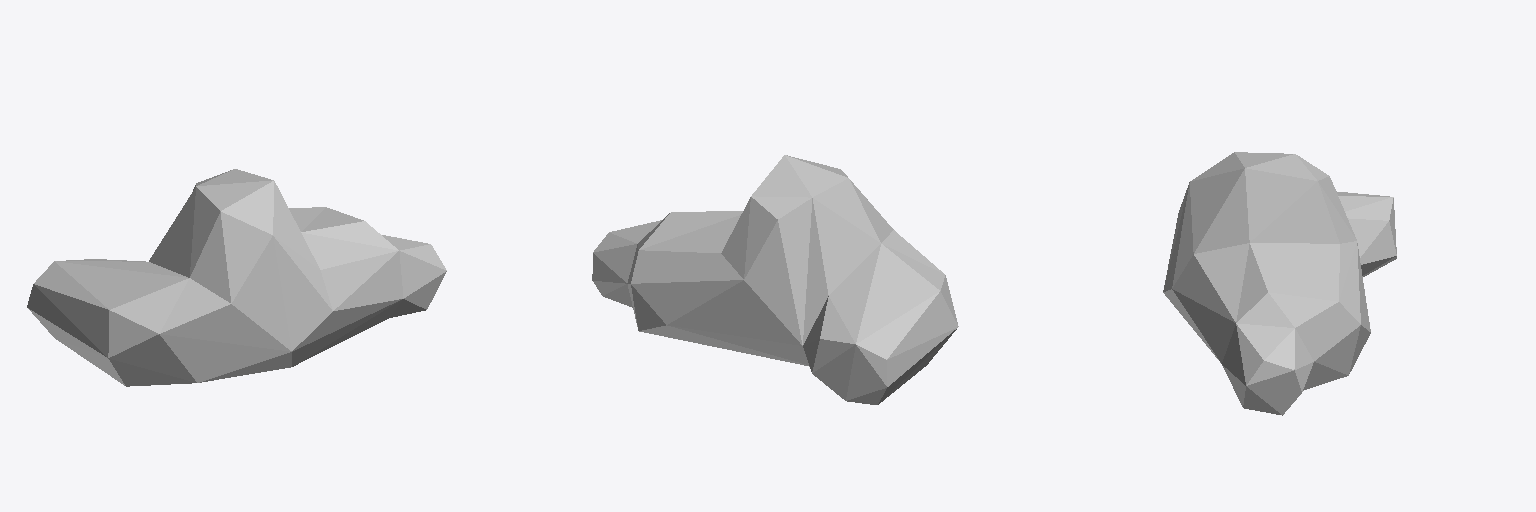
The model's file is kamen 4.obj.
The picture shows the model from 3 angles: view 1: azimuth 30°, elevation 25°; view 2: azimuth 150°, elevation 25°; view 3: azimuth 270°, elevation 25°; orthographic projection.
Visible parts, largest first — view 1: Cube; view 2: Cube; view 3: Cube.
Boxes of the visible parts, <box> form: Cube: <box>27,169,446,386</box>; Cube: <box>592,155,958,404</box>; Cube: <box>1163,152,1396,415</box>.
Size of the model in its own units: 6.32 by 3.06 by 3.68.